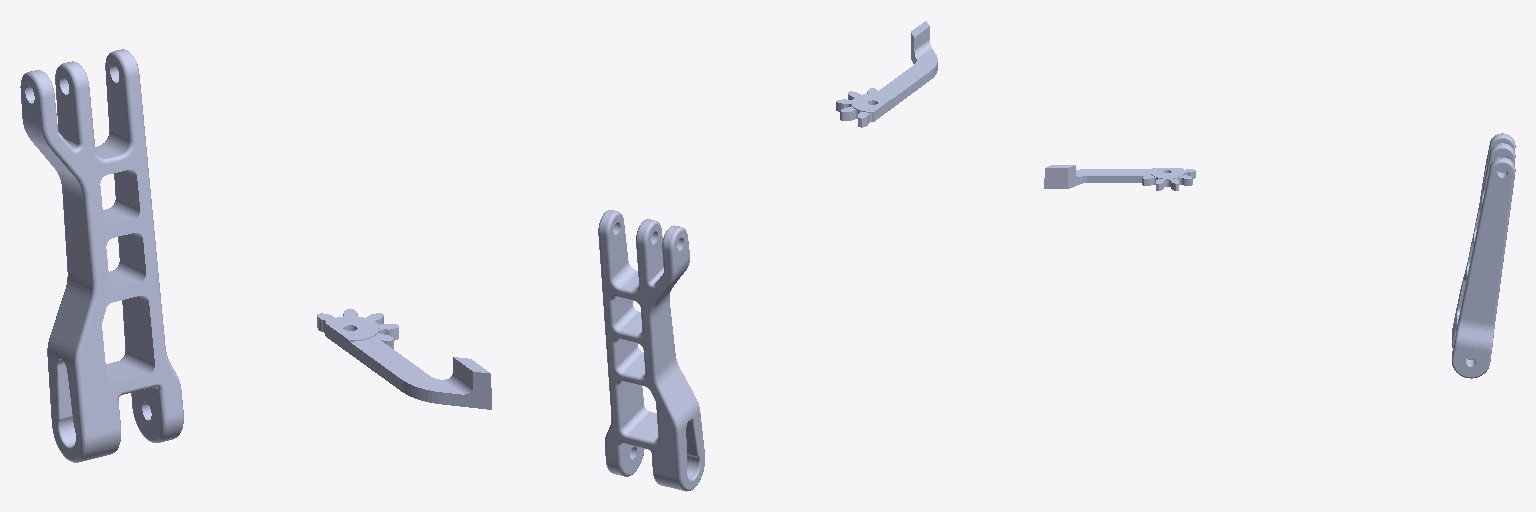
The robot description file, URDF, robot "manipulator_urdf":
<?xml version="1.0" encoding="utf-8"?>


<robot
  name="manipulator_urdf">
  <link
    name="base_link">
    <inertial>
      <origin
        xyz="-0.00044497 0.0014075 0.011411"
        rpy="0 0 0" />
      <mass
        value="0.042631" />
      <inertia
        ixx="2.6758E-05"
        ixy="-6.522E-07"
        ixz="2.4559E-08"
        iyy="2.5173E-05"
        iyz="6.9831E-08"
        izz="4.522E-05" />
    </inertial>
    <visual>
      <origin
        xyz="0 0 0"
        rpy="0 0 0" />
      <geometry>
        <mesh
          filename="package://manipulator_urdf/meshes/base_link.STL" />
      </geometry>
      <material
        name="">
        <color
          rgba="0.79216 0.81961 0.93333 1" />
      </material>
    </visual>
    <collision>
      <origin
        xyz="0 0 0"
        rpy="0 0 0" />
      <geometry>
        <mesh
          filename="package://manipulator_urdf/meshes/base_link.STL" />
      </geometry>
    </collision>
  </link>
  <link
    name="base_plate">
    <inertial>
      <origin
        xyz="-0.0016083 0.0017587 0.012046"
        rpy="0 0 0" />
      <mass
        value="0.043625" />
      <inertia
        ixx="1.5463E-05"
        ixy="1.5928E-06"
        ixz="1.1037E-06"
        iyy="1.9044E-05"
        iyz="-1.4228E-06"
        izz="2.5484E-05" />
    </inertial>
    <visual>
      <origin
        xyz="0 0 0"
        rpy="0 0 0" />
      <geometry>
        <mesh
          filename="package://manipulator_urdf/meshes/base_plate.STL" />
      </geometry>
      <material
        name="">
        <color
          rgba="0.75294 0.75294 0.75294 1" />
      </material>
    </visual>
    <collision>
      <origin
        xyz="0 0 0"
        rpy="0 0 0" />
      <geometry>
        <mesh
          filename="package://manipulator_urdf/meshes/base_plate.STL" />
      </geometry>
    </collision>
  </link>
  <joint
    name="base_link_to_base_plate"
    type="revolute">
    <origin
      xyz="0 0 0.031"
      rpy="0 0 0" />
    <parent
      link="base_link" />
    <child
      link="base_plate" />
    <axis
      xyz="0 0 1" />
    <limit
      lower="-1.5708"
      upper="1.5708"
      effort="30"
      velocity="10" />
  </joint>
  <link
    name="forward_drive_arm_Link">
    <inertial>
      <origin
        xyz="-0.0046735 0.0051251 0.033408"
        rpy="0 0 0" />
      <mass
        value="0.013063" />
      <inertia
        ixx="9.3913E-06"
        ixy="2.2846E-08"
        ixz="1.4619E-07"
        iyy="9.8356E-06"
        iyz="-1.3557E-06"
        izz="1.2317E-06" />
    </inertial>
    <visual>
      <origin
        xyz="0 0 0"
        rpy="0 0 0" />
      <geometry>
        <mesh
          filename="package://manipulator_urdf/meshes/forward_drive_arm_Link.STL" />
      </geometry>
      <material
        name="">
        <color
          rgba="0.79216 0.81961 0.93333 1" />
      </material>
    </visual>
    <collision>
      <origin
        xyz="0 0 0"
        rpy="0 0 0" />
      <geometry>
        <mesh
          filename="package://manipulator_urdf/meshes/forward_drive_arm_Link.STL" />
      </geometry>
    </collision>
  </link>
  <joint
    name="base_plate_to_forward_drive_arm"
    type="revolute">
    <origin
      xyz="0 0 0.0349"
      rpy="0 0 0" />
    <parent
      link="base_plate" />
    <child
      link="forward_drive_arm_Link" />
    <axis
      xyz="1 0 0" />
    <limit
      lower="-1.5708"
      upper="1.5708"
      effort="30"
      velocity="10" />
  </joint>
  <link
    name="horizontal_arm_Link">
    <inertial>
      <origin
        xyz="-0.0022984 -0.051724 0.0036581"
        rpy="0 0 0" />
      <mass
        value="0.0087562" />
      <inertia
        ixx="1.1998E-05"
        ixy="4.2849E-10"
        ixz="-2.1998E-11"
        iyy="2.2054E-07"
        iyz="6.0377E-07"
        izz="1.1857E-05" />
    </inertial>
    <visual>
      <origin
        xyz="0 0 0"
        rpy="0 0 0" />
      <geometry>
        <mesh
          filename="package://manipulator_urdf/meshes/horizontal_arm_Link.STL" />
      </geometry>
      <material
        name="">
        <color
          rgba="0.79216 0.81961 0.93333 1" />
      </material>
    </visual>
    <collision>
      <origin
        xyz="0 0 0"
        rpy="0 0 0" />
      <geometry>
        <mesh
          filename="package://manipulator_urdf/meshes/horizontal_arm_Link.STL" />
      </geometry>
    </collision>
  </link>
  <joint
    name="forward_drive_armto_horizontal_arm"
    type="revolute">
    <origin
      xyz="0 0.012165 0.07907"
      rpy="0 0 0" />
    <parent
      link="forward_drive_arm_Link" />
    <child
      link="horizontal_arm_Link" />
    <axis
      xyz="-1 0 0" />
    <limit
      lower="-1.5708"
      upper="1.5708"
      effort="30"
      velocity="10" />
  </joint>
  <link
    name="claw_support_Link">
    <inertial>
      <origin
        xyz="-0.0033141 -0.013342 -0.0049958"
        rpy="0 0 0" />
      <mass
        value="0.0066694" />
      <inertia
        ixx="2.254E-06"
        ixy="4.0671E-08"
        ixz="1.2764E-07"
        iyy="1.1079E-06"
        iyz="-3.6729E-07"
        izz="1.7502E-06" />
    </inertial>
    <visual>
      <origin
        xyz="0 0 0"
        rpy="0 0 0" />
      <geometry>
        <mesh
          filename="package://manipulator_urdf/meshes/claw_support_Link.STL" />
      </geometry>
      <material
        name="">
        <color
          rgba="0.79216 0.81961 0.93333 1" />
      </material>
    </visual>
    <collision>
      <origin
        xyz="0 0 0"
        rpy="0 0 0" />
      <geometry>
        <mesh
          filename="package://manipulator_urdf/meshes/claw_support_Link.STL" />
      </geometry>
    </collision>
  </link>
  <joint
    name="horizontal_arm_to_claw_support"
    type="fixed">
    <origin
      xyz="0 -0.11477 0.0071825"
      rpy="0 0 0" />
    <parent
      link="horizontal_arm_Link" />
    <child
      link="claw_support_Link" />
    <axis
      xyz="1 0 0" />
    <limit
      lower="0"
      upper="0"
      effort="0"
      velocity="0" />
  </joint>
  <link
    name="gripper_right_Link">
    <inertial>
      <origin
        xyz="0.0023939 -0.018367 -0.0069277"
        rpy="0 0 0" />
      <mass
        value="0.0014646" />
      <inertia
        ixx="4.3292E-07"
        ixy="3.2675E-08"
        ixz="-3.933E-09"
        iyy="2.4067E-08"
        iyz="1.7241E-08"
        izz="4.4796E-07" />
    </inertial>
    <visual>
      <origin
        xyz="0 0 0"
        rpy="0 0 0" />
      <geometry>
        <mesh
          filename="package://manipulator_urdf/meshes/gripper_right_Link.STL" />
      </geometry>
      <material
        name="">
        <color
          rgba="0.79216 0.81961 0.93333 1" />
      </material>
    </visual>
    <collision>
      <origin
        xyz="0 0 0"
        rpy="0 0 0" />
      <geometry>
        <mesh
          filename="package://manipulator_urdf/meshes/gripper_right_Link.STL" />
      </geometry>
    </collision>
  </link>
  <joint
    name="claw_support_to_gripper_right"
    type="revolute">
    <origin
      xyz="-0.0113 -0.014515 -0.0091654"
      rpy="0 0 0" />
    <parent
      link="claw_support_Link" />
    <child
      link="gripper_right_Link" />
    <axis
      xyz="0 0 1" />
    <limit
      lower="-1.57079632679"
      upper="0"
      effort="30"
      velocity="10" />
  </joint>
  <link
    name="gripper_left_Link">
    <inertial>
      <origin
        xyz="-0.0021875 -0.019421 -0.0068857"
        rpy="0 0 0" />
      <mass
        value="0.0013895" />
      <inertia
        ixx="4.0273E-07"
        ixy="-2.1282E-08"
        ixz="3.4894E-09"
        iyy="2.2299E-08"
        iyz="1.6148E-08"
        izz="4.1619E-07" />
    </inertial>
    <visual>
      <origin
        xyz="0 0 0"
        rpy="0 0 0" />
      <geometry>
        <mesh
          filename="package://manipulator_urdf/meshes/gripper_left_Link.STL" />
      </geometry>
      <material
        name="">
        <color
          rgba="0.79216 0.81961 0.93333 1" />
      </material>
    </visual>
    <collision>
      <origin
        xyz="0 0 0"
        rpy="0 0 0" />
      <geometry>
        <mesh
          filename="package://manipulator_urdf/meshes/gripper_left_Link.STL" />
      </geometry>
    </collision>
  </link>
  <joint
    name="claw_support_to_gripper_left"
    type="revolute">
    <origin
      xyz="0.0068024 -0.014517 -0.0093651"
      rpy="0 0 0" />
    <parent
      link="claw_support_Link" />
    <child
      link="gripper_left_Link" />
    <axis
      xyz="0 0 1" />
    <limit
      lower="0"
      upper="1.57079632679"
      effort="30"
      velocity="10" />
    <mimic
      joint="claw_support_to_gripper_right"
      multiplier="-1"
      offset="0" />
  </joint>
</robot>

--- Facts derived from the render (not from the file) ---
3 views of the same robot in one strip: view 1: azimuth 30°, elevation 25°; view 2: azimuth 150°, elevation 25°; view 3: azimuth 270°, elevation 25° (orthographic).
Model manipulator_urdf with 7 links and 6 joints (5 revolute, 1 fixed), rooted at base_link, posed all joints at 0.
Visible links, largest first — view 1: forward_drive_arm_Link, gripper_right_Link; view 2: forward_drive_arm_Link, gripper_right_Link; view 3: forward_drive_arm_Link, gripper_right_Link.
Boxes of the visible links, bbox=[...] form: forward_drive_arm_Link: bbox=[20, 49, 183, 462]; gripper_right_Link: bbox=[317, 309, 491, 409]; forward_drive_arm_Link: bbox=[598, 210, 704, 491]; gripper_right_Link: bbox=[836, 21, 937, 127]; forward_drive_arm_Link: bbox=[1452, 133, 1515, 378]; gripper_right_Link: bbox=[1044, 165, 1195, 190].
Bounding box of the posed robot: 0.029 × 0.1818 × 0.0916 m (x, y, z).
Meshes: 7 distinct files referenced, 2 mesh visuals loaded (2 binary STL); not drawn: 4 (reference not matched to a file when rendering), 1 (file found but could not be loaded).